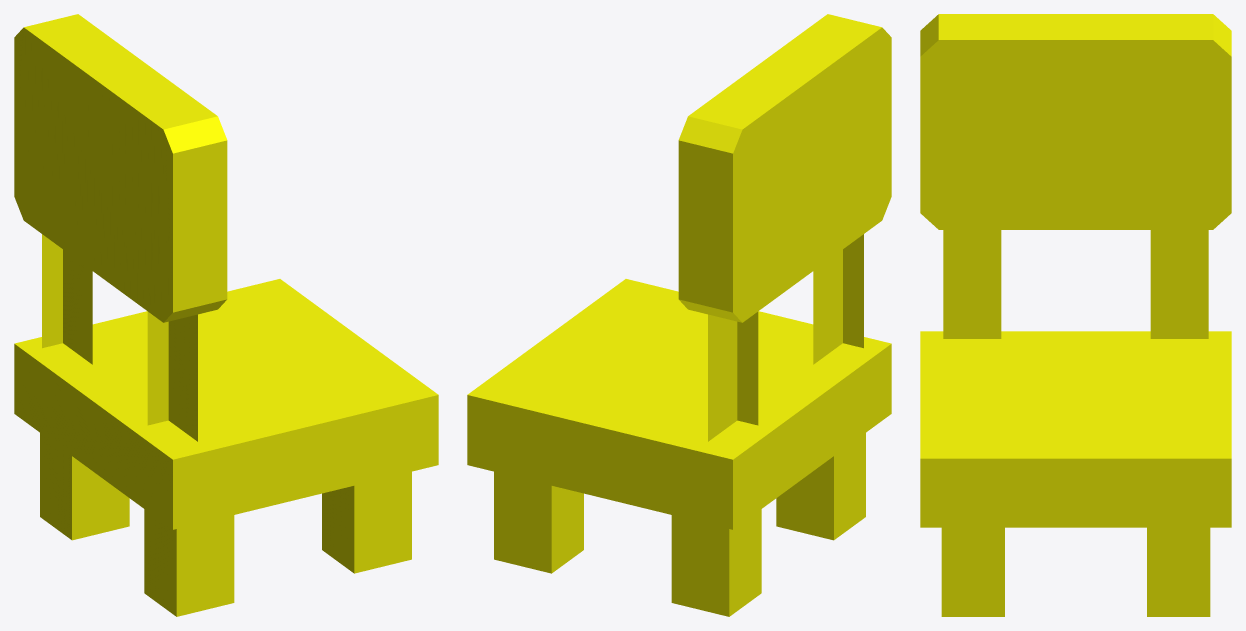
The model's file is Ghe.gltf.
3 views of the same model, side by side, from view 1: azimuth 30°, elevation 25°; view 2: azimuth 150°, elevation 25°; view 3: azimuth 270°, elevation 25° (orthographic).
Visible parts, largest first — view 1: Ghe; view 2: Ghe; view 3: Ghe.
Boxes of the visible parts, left/top/right/bottom form: Ghe: left=14, top=14, right=438, bottom=616; Ghe: left=467, top=14, right=891, bottom=616; Ghe: left=920, top=14, right=1231, bottom=616.
Bounding box in the file's own units: 1.5 × 2.65 × 1.55.
Materials: 1 (1 with a texture image).
